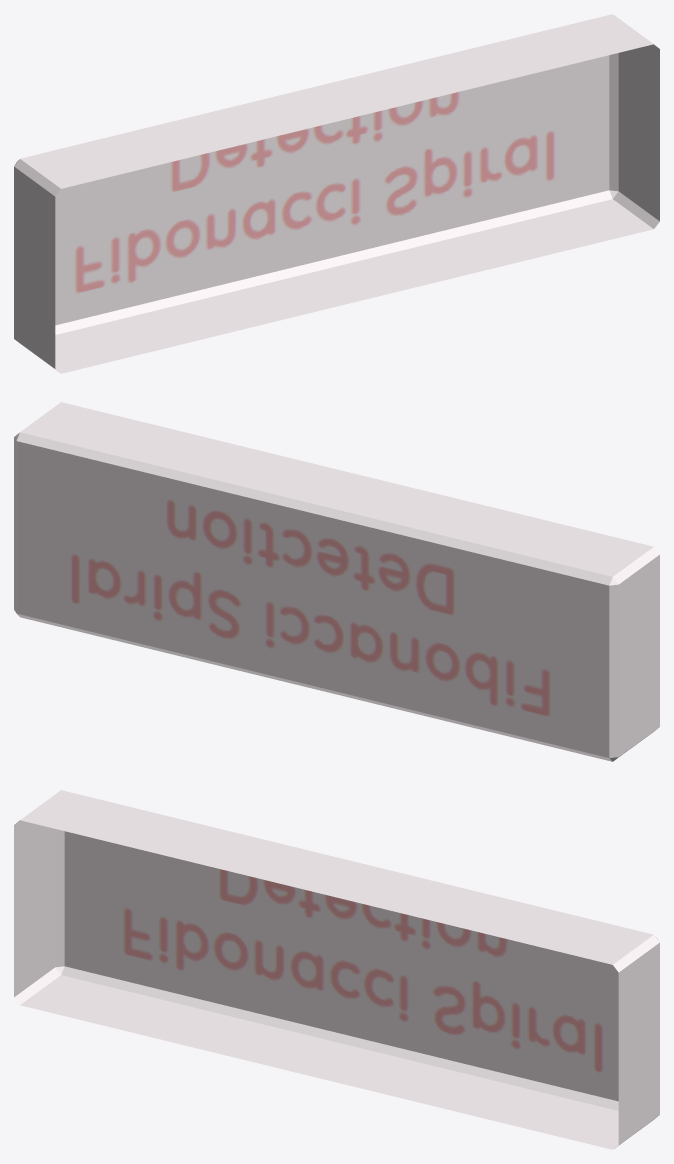
Rendered from fibonacci_spiral_detection.glb.
The picture shows the model from 3 angles, top to bottom: view 1: azimuth 30°, elevation 25°; view 2: azimuth 150°, elevation 25°; view 3: azimuth 330°, elevation 25°; orthographic projection.
Parts seen in each view (by area): view 1: Empty.001; view 2: Empty.001; view 3: Empty.001.
Part boxes in pixels (box(x1,y1,x2,y2)): Empty.001: box(14, 14, 659, 373); Empty.001: box(14, 402, 659, 761); Empty.001: box(14, 790, 659, 1149).
Size of the model in its own units: 5 by 1.46 by 0.64.
1 material, 1 textured.
